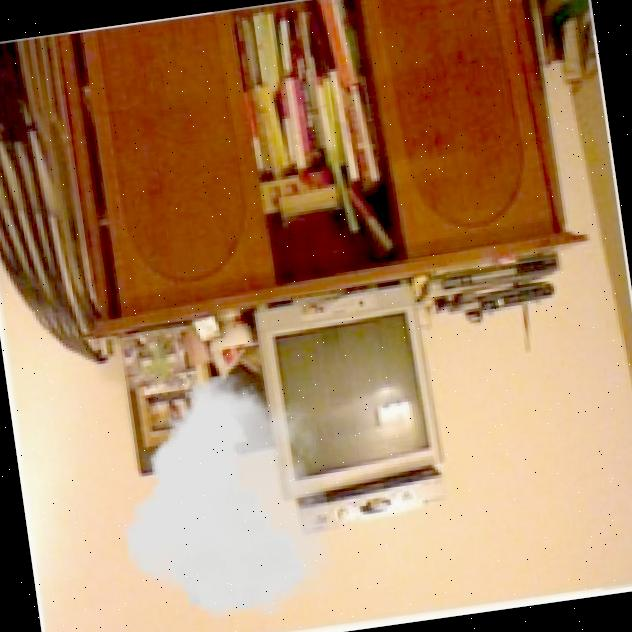smoke: (104, 364, 342, 632)
